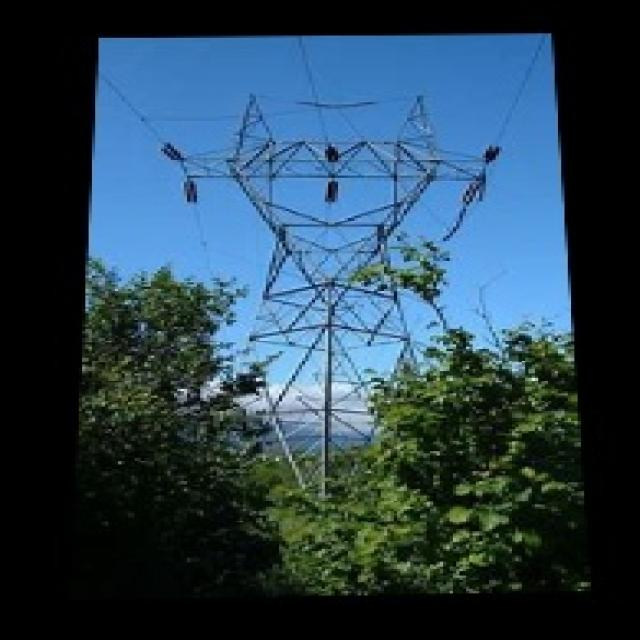utility poles: (342, 254, 522, 419), (183, 288, 304, 442)
